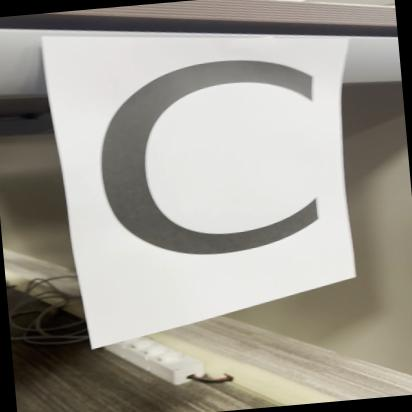seat: (53, 34, 355, 309)
